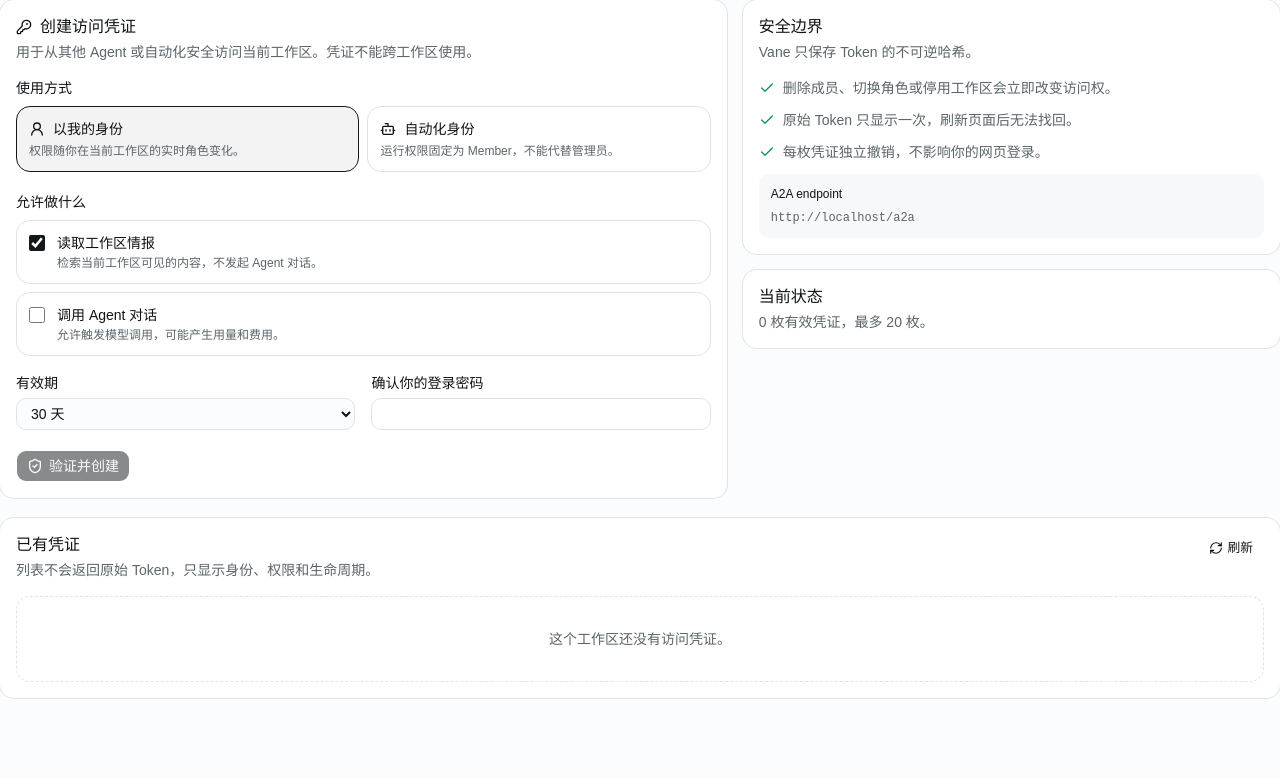
Test: A2A credential management › clears the one-time bearer and rejects stale results when the Principal changes
Expected: the text "这个工作区还没有访问凭证。" is shown, [16,596,1264,682]
Type "owner-password" into the password field labelled "确认你的登录密码" at (541, 414), box [371,398,711,430]
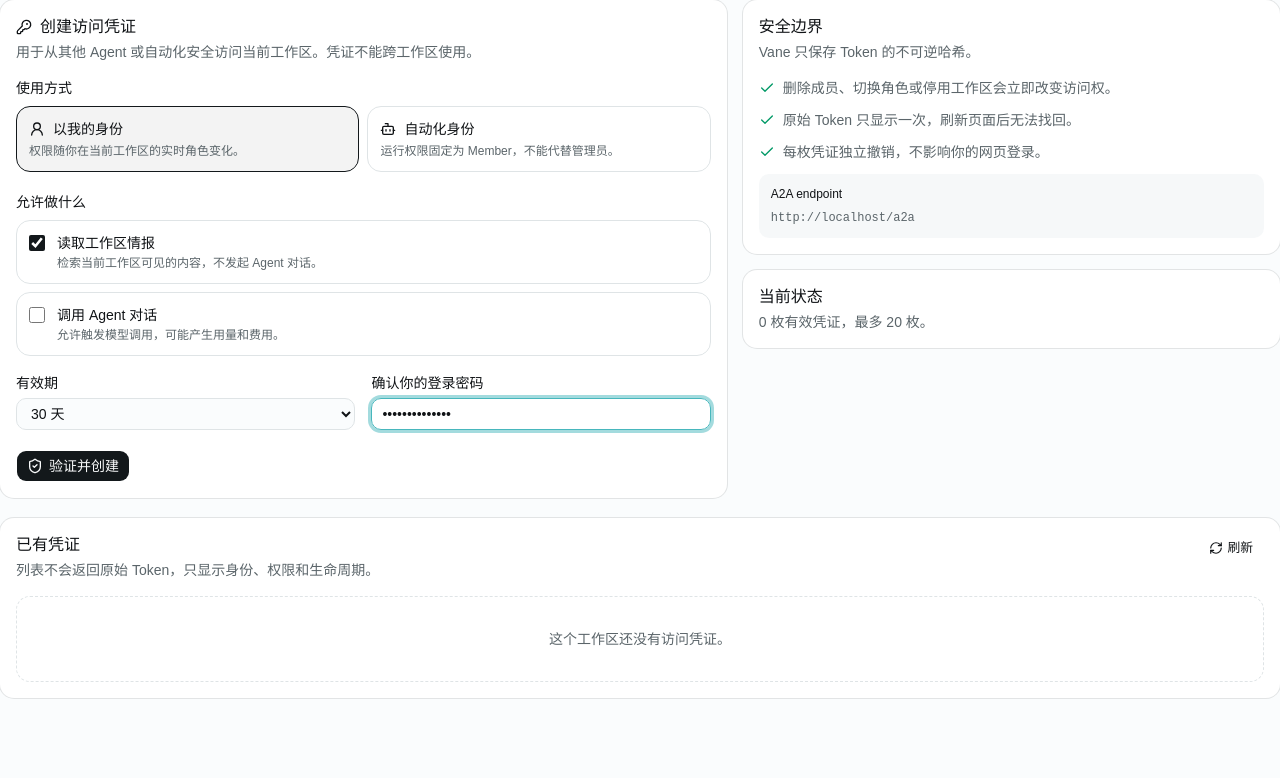
Click the button "验证并创建" at (73, 466), box [16,450,130,482]
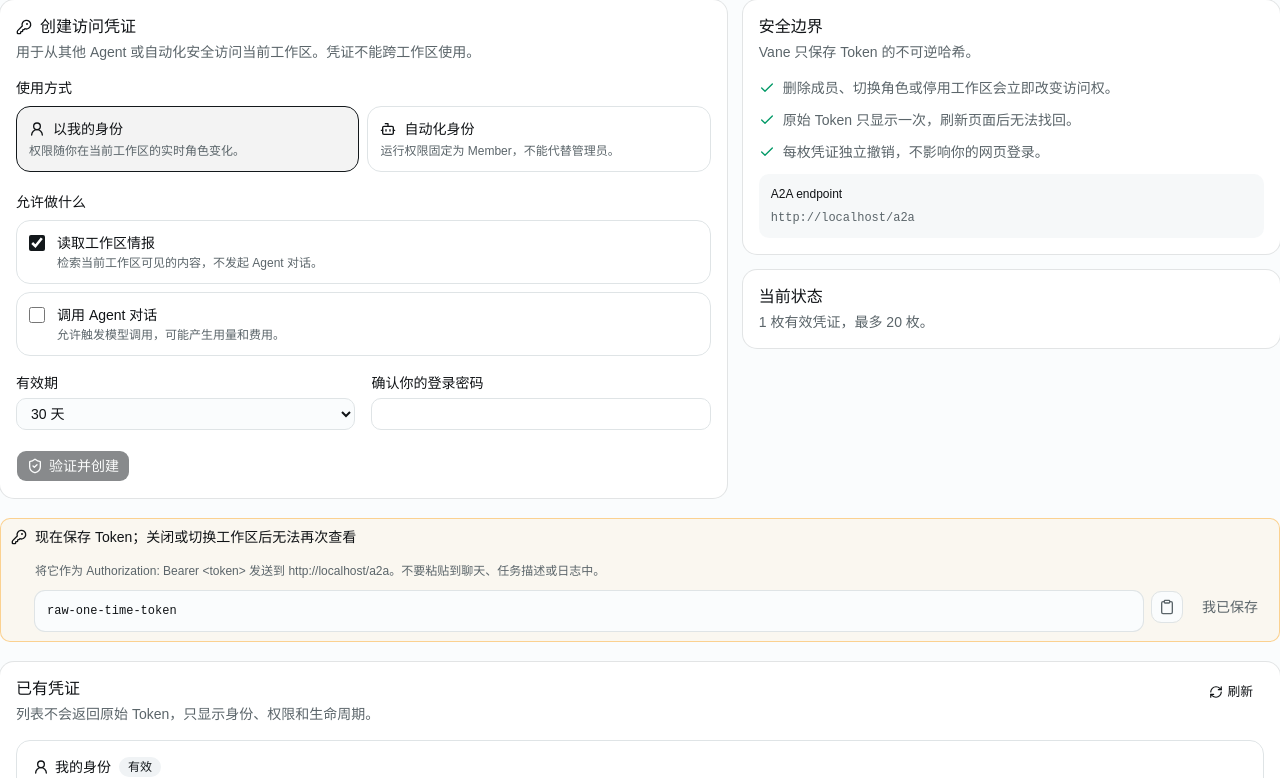
Now the text "raw-one-time-token" is shown, box [35,591,1143,631]
